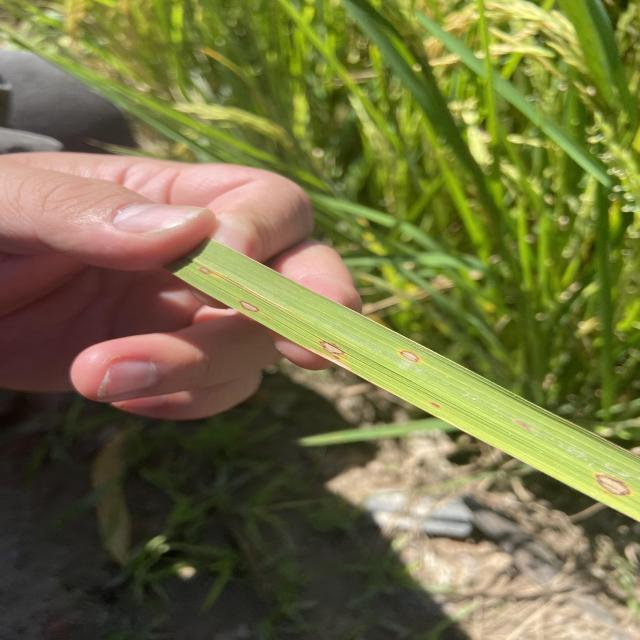Dao on: (596, 474, 631, 495), (319, 342, 346, 355), (399, 350, 420, 362), (240, 301, 260, 311), (199, 267, 211, 274)
